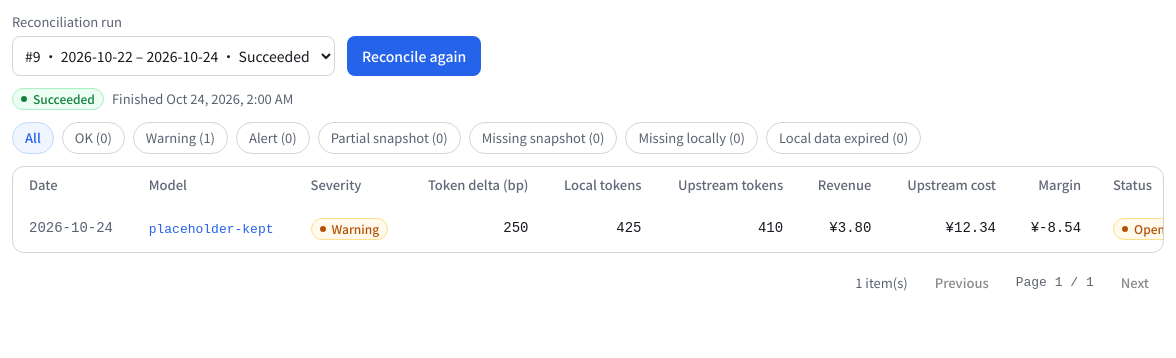
Test: reconciliation results tab › keeps the same run’s rows on screen while a new filter loads
Check: the row with test id "item-row" is shown, box [13,203,1164,252]
What coordinates should you click on to do the following:
click the button "Warning (1)"
I would click on:
 (180, 138)
Its box is [133,122,228,154].
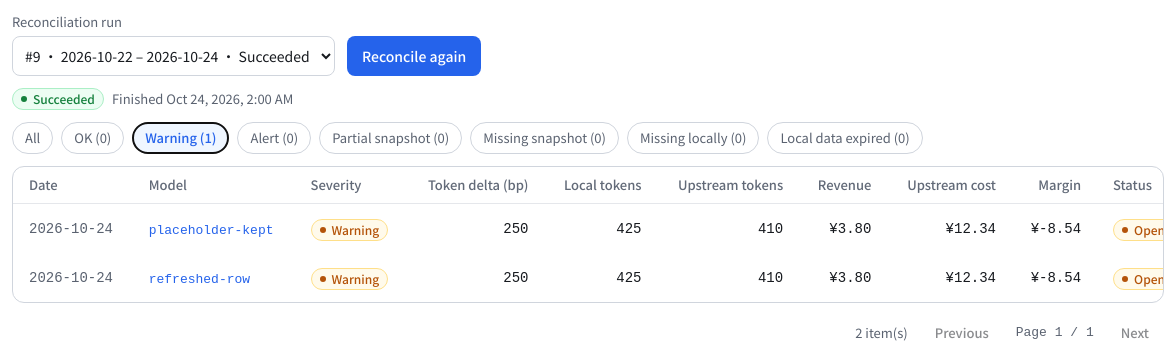
Check: the row with test id "item-row" that starts with "placeholder-kept" is shown, box [13,204,1164,253]
Check: the button "refreshed-row" is shown, box [149,270,250,290]
